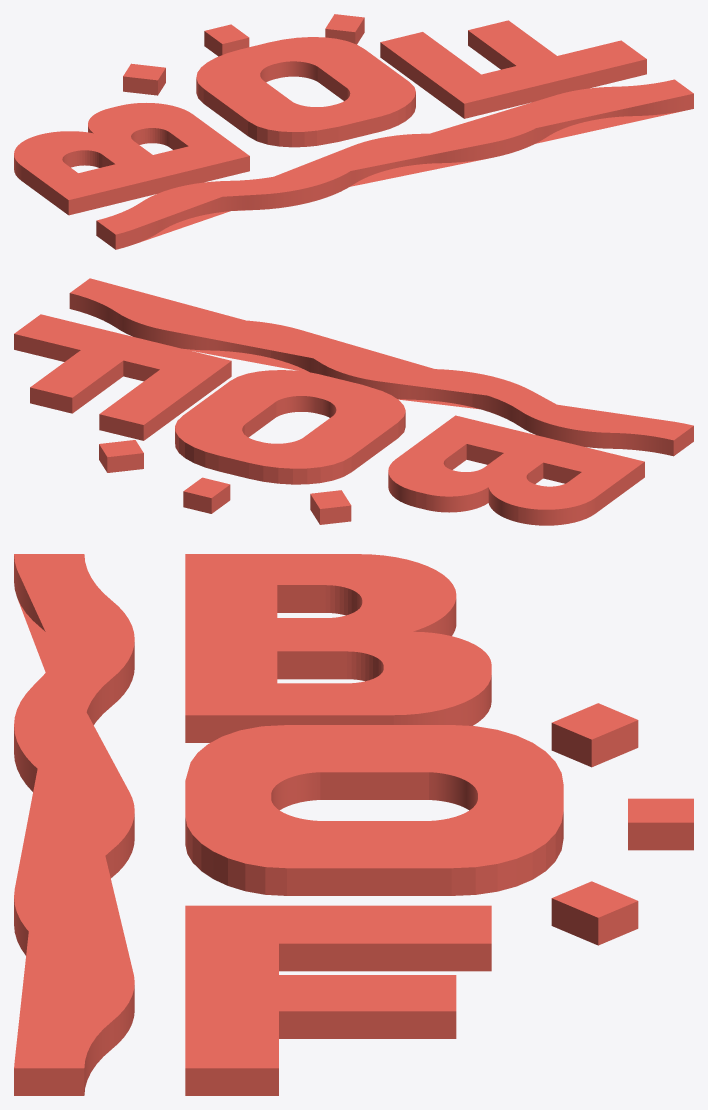
The model's file is BOF(fbx).fbx.
3 renders of one model, top to bottom at view 1: azimuth 30°, elevation 25°; view 2: azimuth 150°, elevation 25°; view 3: azimuth 270°, elevation 25°, orthographic. The views are drawn at different scales.
Parts seen in each view (by area): view 1: Group1, Group3, Group4, Group2, Group5, Group6, Group7; view 2: Group1, Group3, Group4, Group2, Group6, Group7, Group5; view 3: Group3, Group1, Group4, Group2, Group5, Group7, Group6.
Boxes of the visible parts, bbox=[...] form: Group1: bbox=[96, 79, 693, 249]; Group3: bbox=[196, 37, 415, 147]; Group4: bbox=[14, 103, 249, 215]; Group2: bbox=[380, 20, 646, 118]; Group5: bbox=[123, 63, 165, 95]; Group6: bbox=[204, 24, 249, 56]; Group7: bbox=[325, 14, 364, 44]; Group1: bbox=[69, 278, 693, 456]; Group3: bbox=[175, 370, 405, 484]; Group4: bbox=[388, 415, 644, 525]; Group2: bbox=[14, 314, 231, 440]; Group6: bbox=[183, 477, 230, 513]; Group7: bbox=[99, 440, 143, 472]; Group5: bbox=[310, 490, 351, 524]; Group3: bbox=[185, 725, 563, 895]; Group1: bbox=[14, 554, 134, 1095]; Group4: bbox=[185, 554, 491, 742]; Group2: bbox=[185, 905, 491, 1095]; Group5: bbox=[551, 703, 638, 767]; Group7: bbox=[551, 881, 638, 945]; Group6: bbox=[628, 798, 693, 850].
Size of the model in its own units: 7945 by 300 by 4441.
